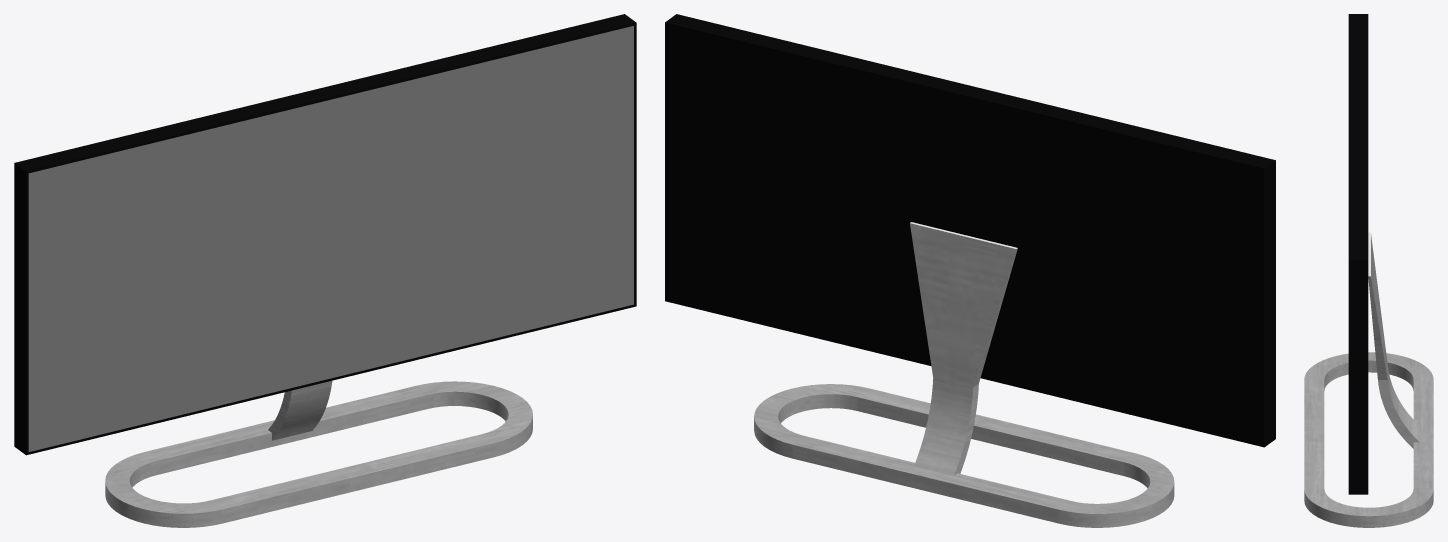
File: Lampa.glb
3 renders of one model, left to right at view 1: azimuth 30°, elevation 25°; view 2: azimuth 150°, elevation 25°; view 3: azimuth 270°, elevation 25°, orthographic. The views are drawn at different scales.
Parts seen in each view (by area): view 1: group_0.006, group_0.001, group_0.003, group_0, group_0.002; view 2: group_0.003, group_0.001, group_0.002, group_0; view 3: group_0.003, group_0.001, group_0.002, group_0.
Boxes of the visible parts, x1,y1,x2,y2 form: group_0.006: [28, 26, 633, 451]; group_0.001: [105, 381, 532, 527]; group_0.003: [14, 14, 636, 455]; group_0: [129, 391, 508, 487]; group_0.002: [268, 381, 332, 440]; group_0.003: [665, 14, 1275, 447]; group_0.001: [754, 384, 1174, 527]; group_0.002: [910, 223, 1017, 475]; group_0: [778, 394, 1150, 488]; group_0.003: [1348, 14, 1368, 494]; group_0.001: [1304, 352, 1433, 527]; group_0.002: [1368, 234, 1419, 448]; group_0: [1324, 360, 1413, 390].
Size of the model in its own units: 0.9 by 0.5266 by 0.2.
4 materials, 1 textured.
